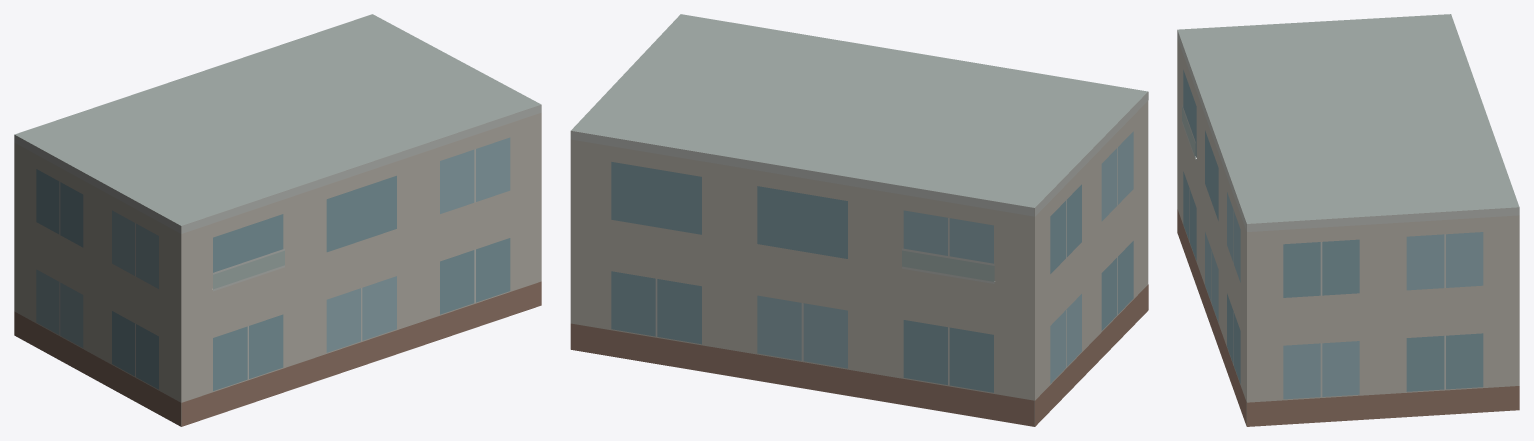
Rendered from survey-upis-32720407.glb.
3 renders of one model, left to right at view 1: azimuth 30°, elevation 25°; view 2: azimuth 150°, elevation 25°; view 3: azimuth 270°, elevation 25°, orthographic. The views are drawn at different scales.
Parts seen in each view (by area): view 1: survey-upis-32720407.tmp; view 2: survey-upis-32720407.tmp; view 3: survey-upis-32720407.tmp.
Boxes of the visible parts, box(x1,y1,x2,y2) form: survey-upis-32720407.tmp: box(14, 14, 541, 426); survey-upis-32720407.tmp: box(570, 14, 1148, 426); survey-upis-32720407.tmp: box(1177, 14, 1519, 426).
Bounding box in the file's own units: 13.55 × 6.1 × 9.34.
